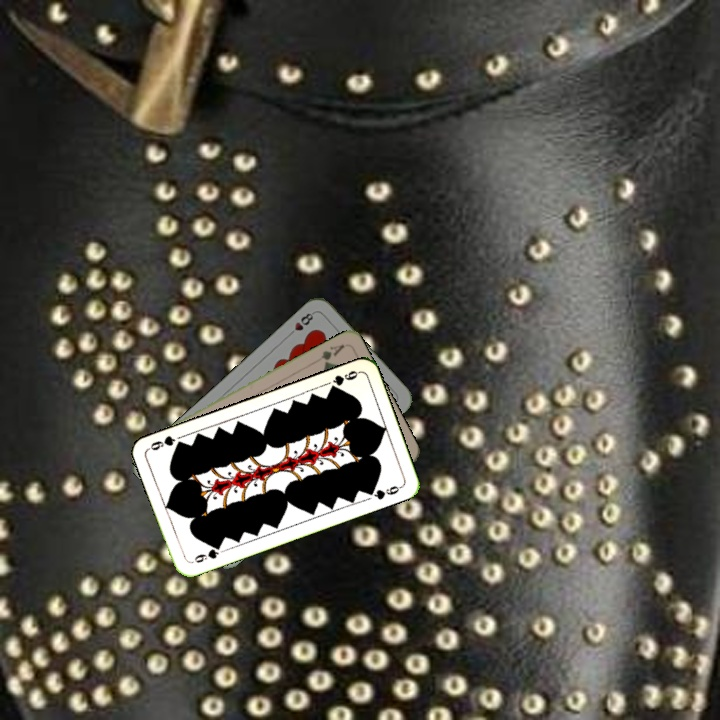G9: (325, 366, 362, 393), (187, 541, 224, 566)
GA: (317, 340, 347, 367)
H8: (284, 308, 317, 339)
